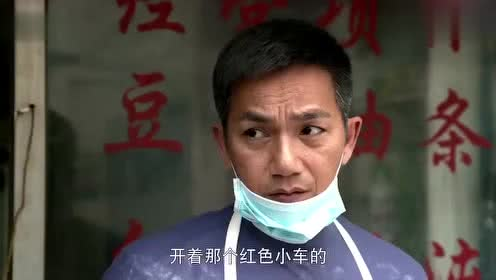wrongmask: (202, 18, 365, 247)
